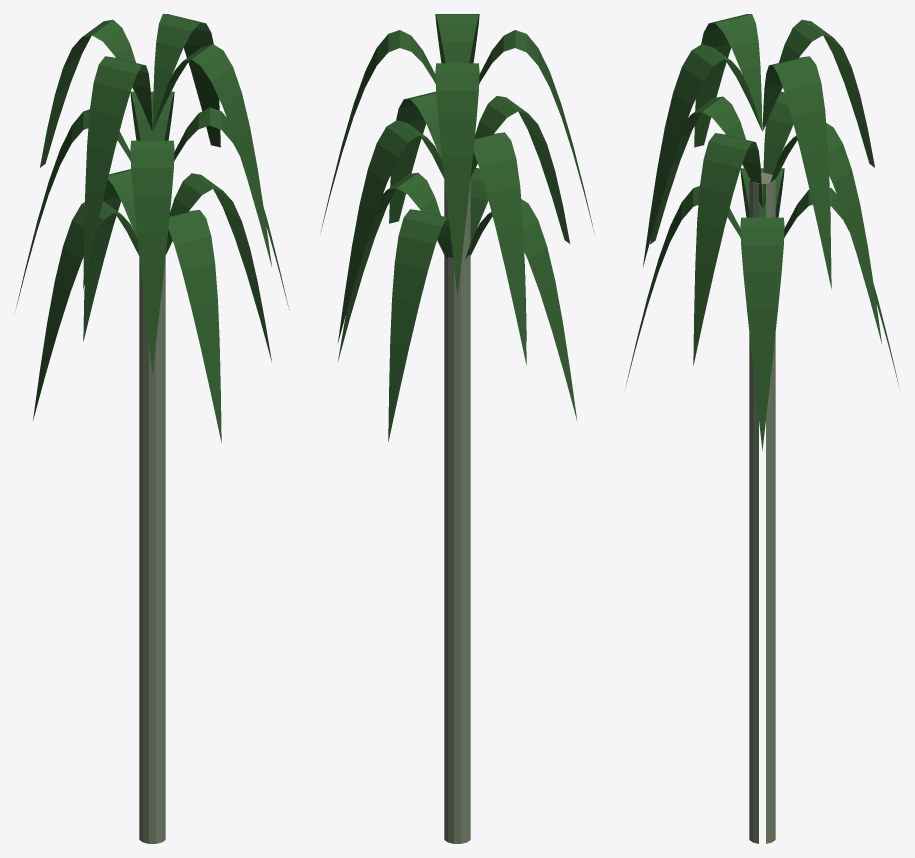
The model's file is fan-tree.glb.
The picture shows the model from 3 angles, left to right: view 1: azimuth 30°, elevation 25°; view 2: azimuth 150°, elevation 25°; view 3: azimuth 270°, elevation 25°; orthographic projection.
Bounding box in the file's own units: 1.96 × 6.24 × 1.96.
